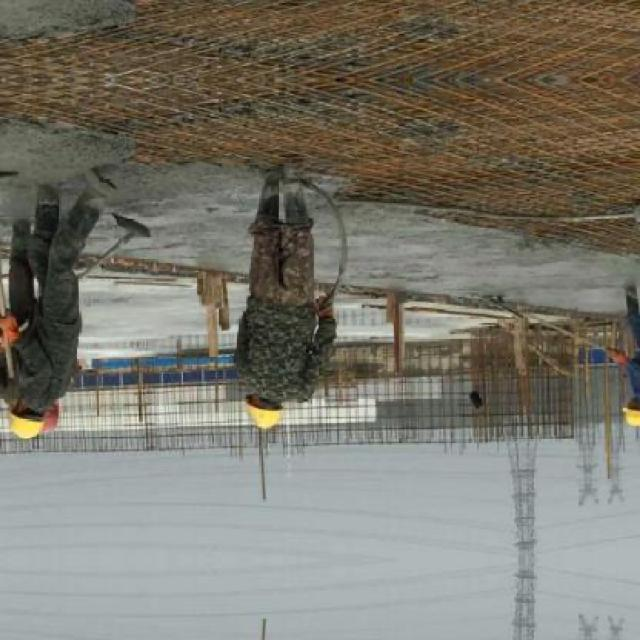con casco: (219, 376, 318, 451), (0, 376, 57, 461)
